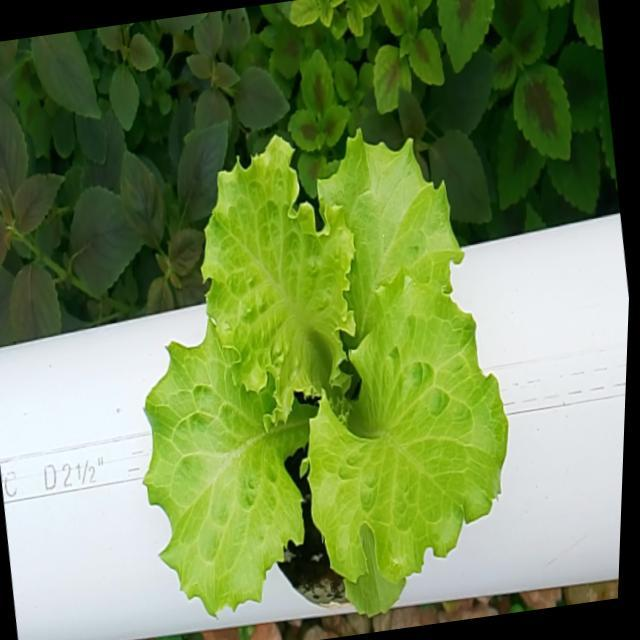Baby: (144, 122, 505, 604)
